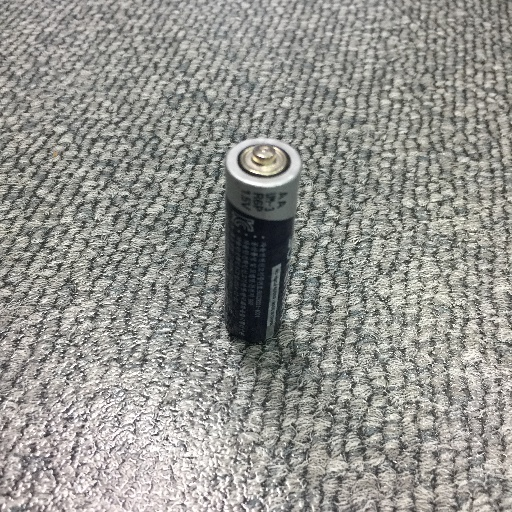Battery_0: (210, 130, 306, 359)
